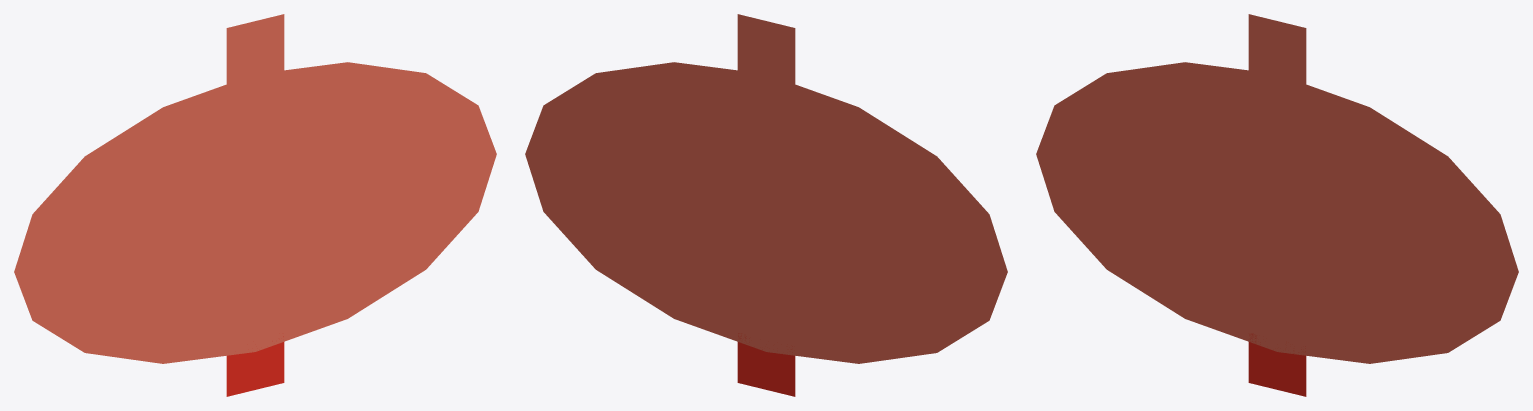
File: alert_mark.obj
3 renders of one model, left to right at view 1: azimuth 30°, elevation 25°; view 2: azimuth 150°, elevation 25°; view 3: azimuth 330°, elevation 25°, orthographic.
Parts seen in each view (by area): view 1: alert_mark; view 2: alert_mark; view 3: alert_mark.
Boxes of the visible parts, x1,y1,x2,y2 form: alert_mark: [14, 14, 496, 396]; alert_mark: [525, 14, 1007, 396]; alert_mark: [1036, 14, 1518, 396].
Bounding box in the file's own units: 1 × 0.73 × 0.
